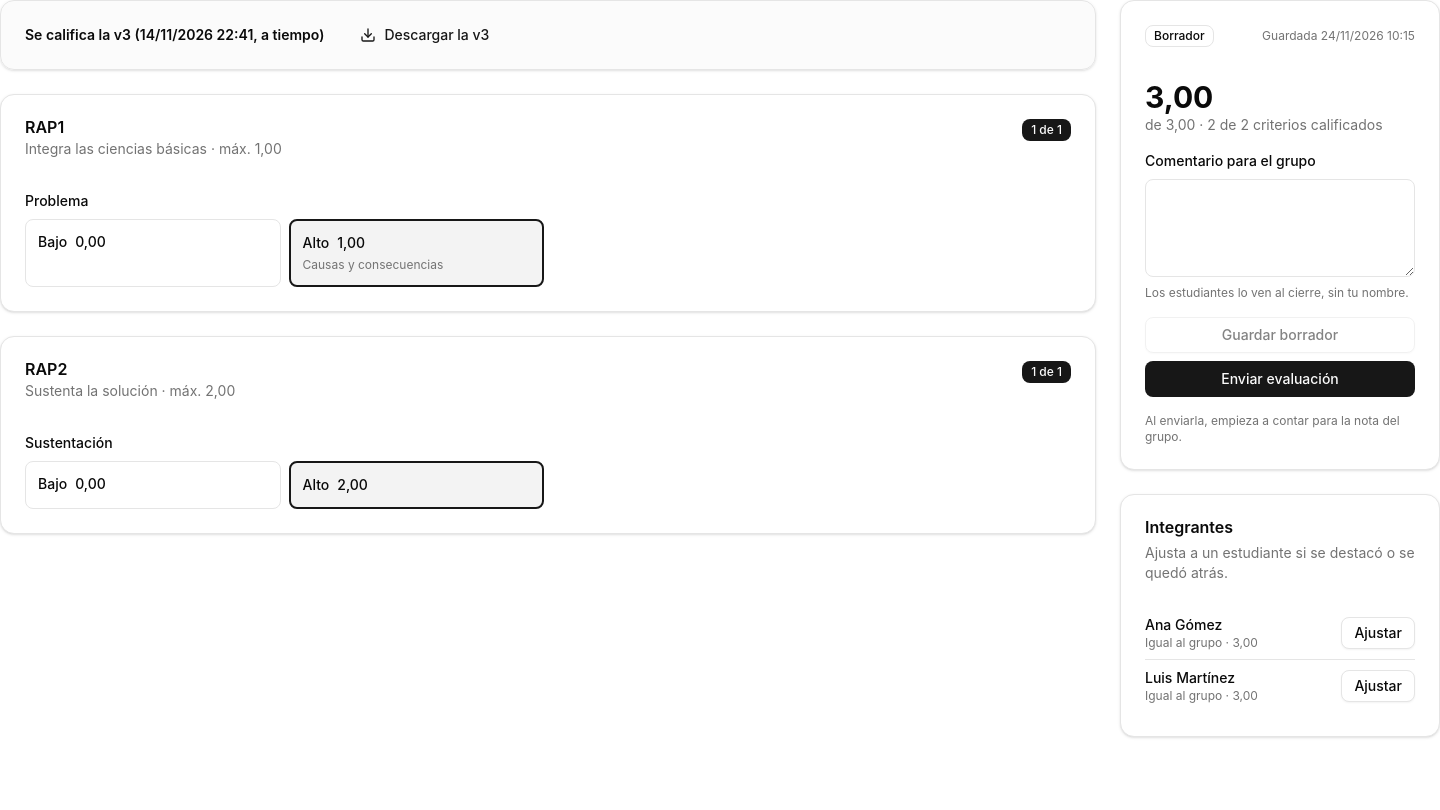
EvaluationEditor › adjusts one student and goes back to the group level by picking it again
Click the button with aria-label "Ajustar a Ana Gómez" at [1378, 633], box x1=1341 y1=617 x2=1415 y2=649
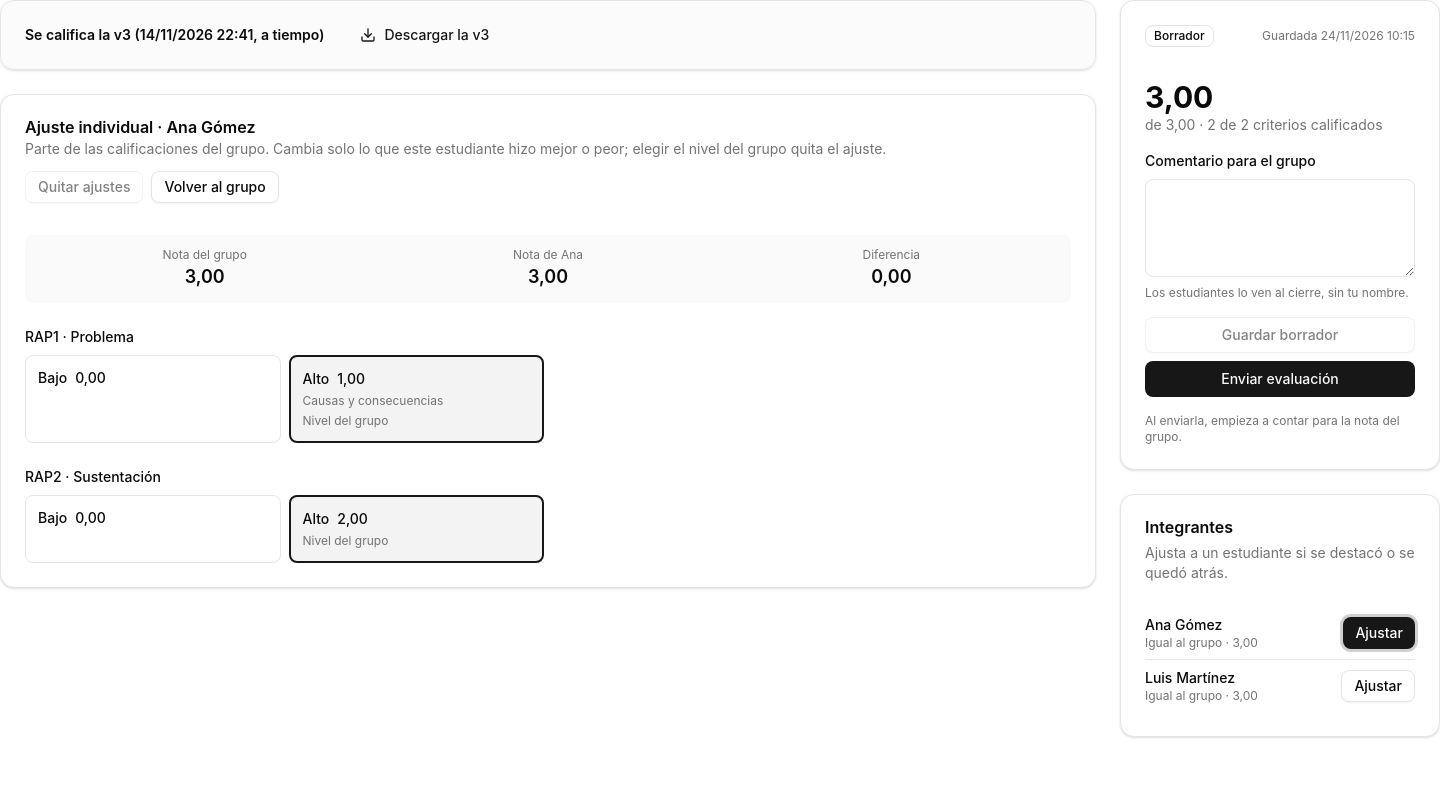
Expected: the text "Ajuste individual · Ana Gómez" is shown, x1=25 y1=117 x2=256 y2=137
Click the radio button labelled "Bajo 0,00" below "RAP2 · Sustentación" at [153, 529], box x1=25 y1=495 x2=280 y2=563
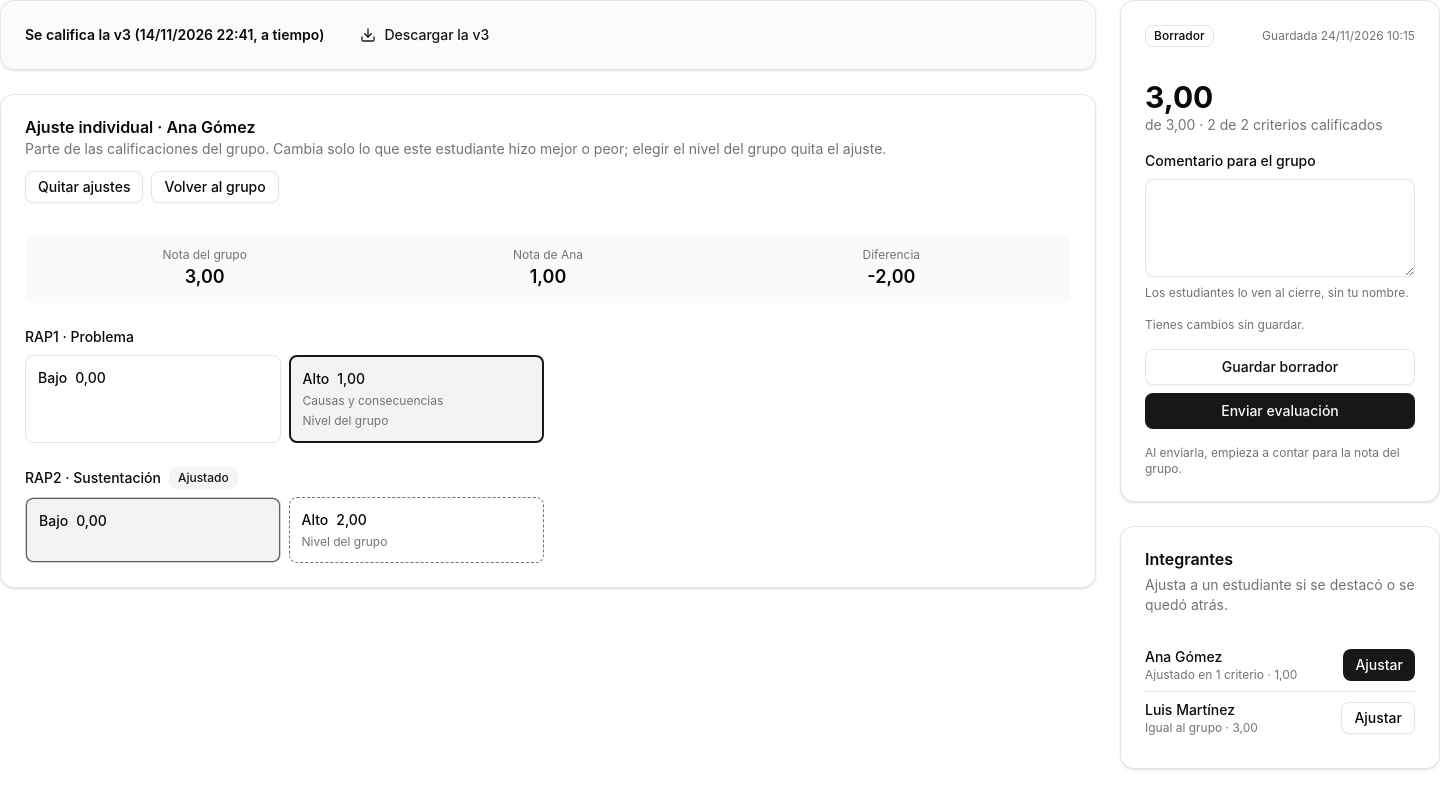
Expected: the text "1,00" below "Nota de Ana" is shown, x1=530 y1=266 x2=566 y2=287
Expected: the text "-2,00" is shown, x1=867 y1=266 x2=915 y2=287
Expected: the text "Ajustado en 1 criterio · 1,00" is shown, x1=1145 y1=667 x2=1297 y2=683
Click the button "Guardar borrador" at [1280, 367], box x1=1145 y1=349 x2=1415 y2=385
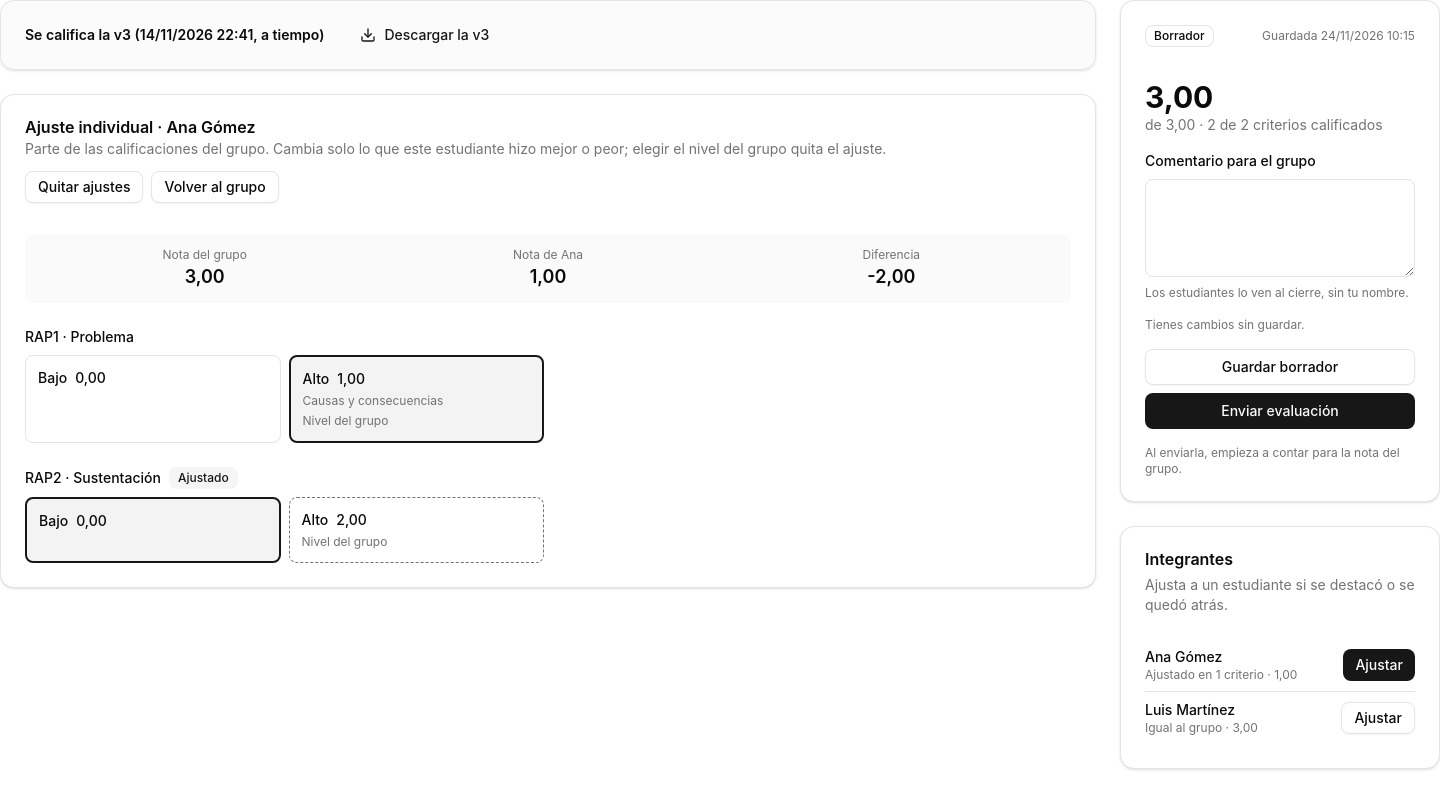
Click the radio button with aria-label "Alto 2,00 (nivel del grupo)" at [416, 530], box x1=288 y1=497 x2=544 y2=563
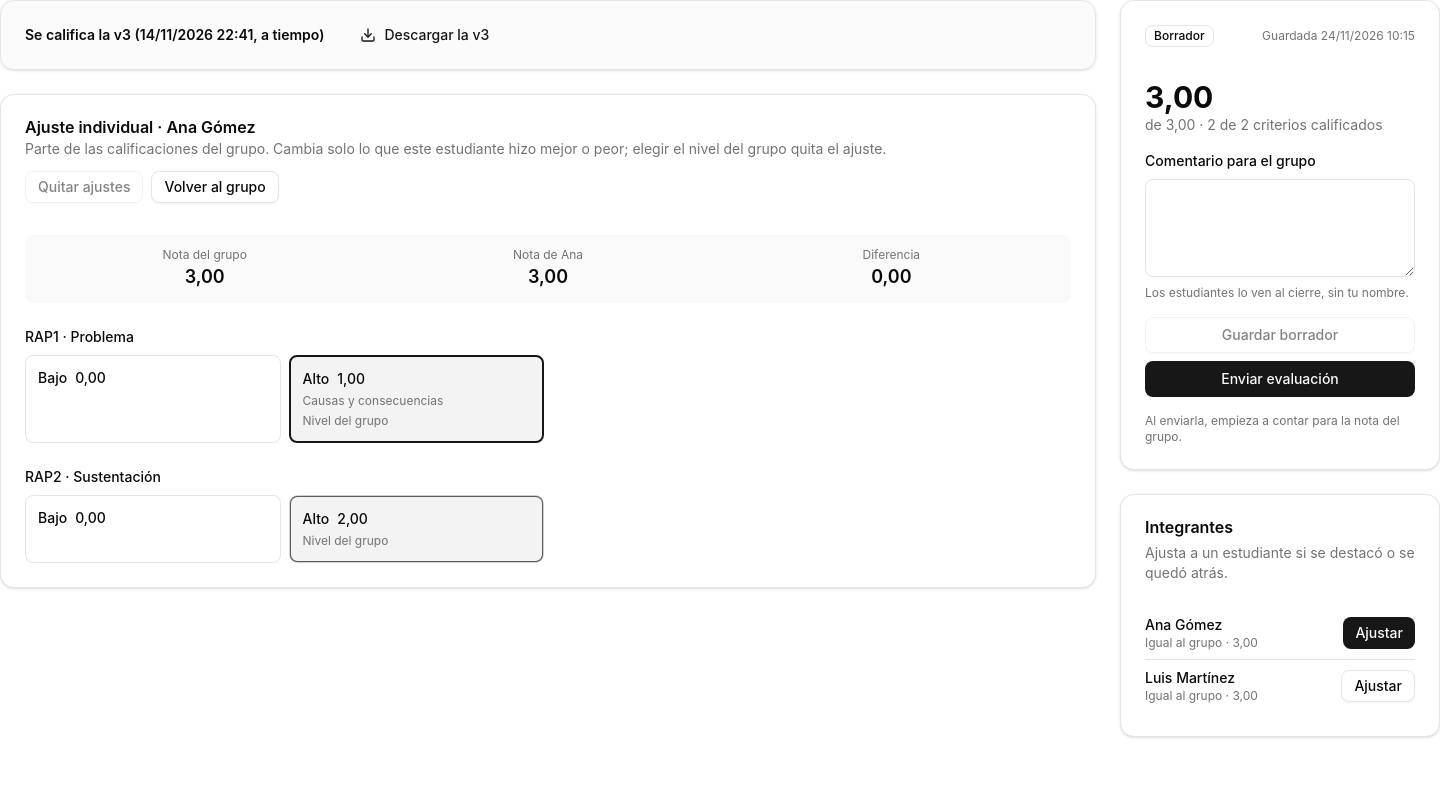
Expected: the text "Ajustado en" is gone
